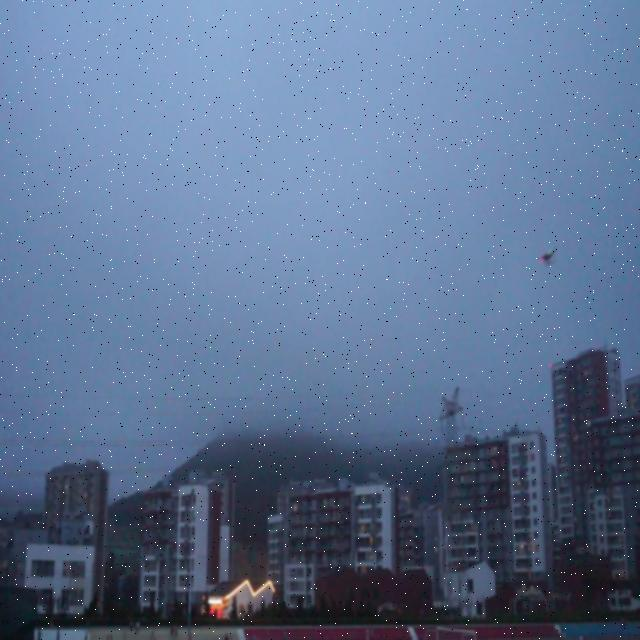UAV: (538, 247, 557, 267)
